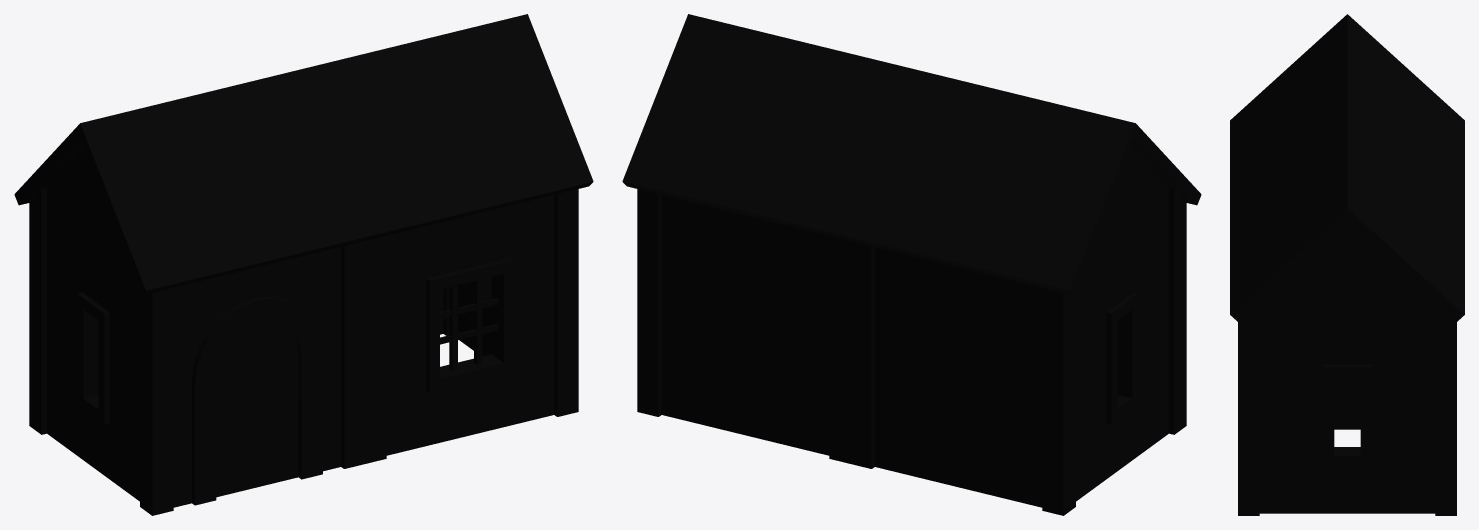
File: house-long.glb
3 views of the same model, side by side, from view 1: azimuth 30°, elevation 25°; view 2: azimuth 150°, elevation 25°; view 3: azimuth 270°, elevation 25° (orthographic). The views are drawn at different scales.
Visible parts, largest first — view 1: wall; view 2: wall; view 3: wall.
Boxes of the visible parts, <box> form: wall: <box>14,14,593,515</box>; wall: <box>622,14,1201,515</box>; wall: <box>1230,14,1464,515</box>.
Bounding box in the file's own units: 2.1 × 1.57 × 1.07.
1 material, 1 textured.
